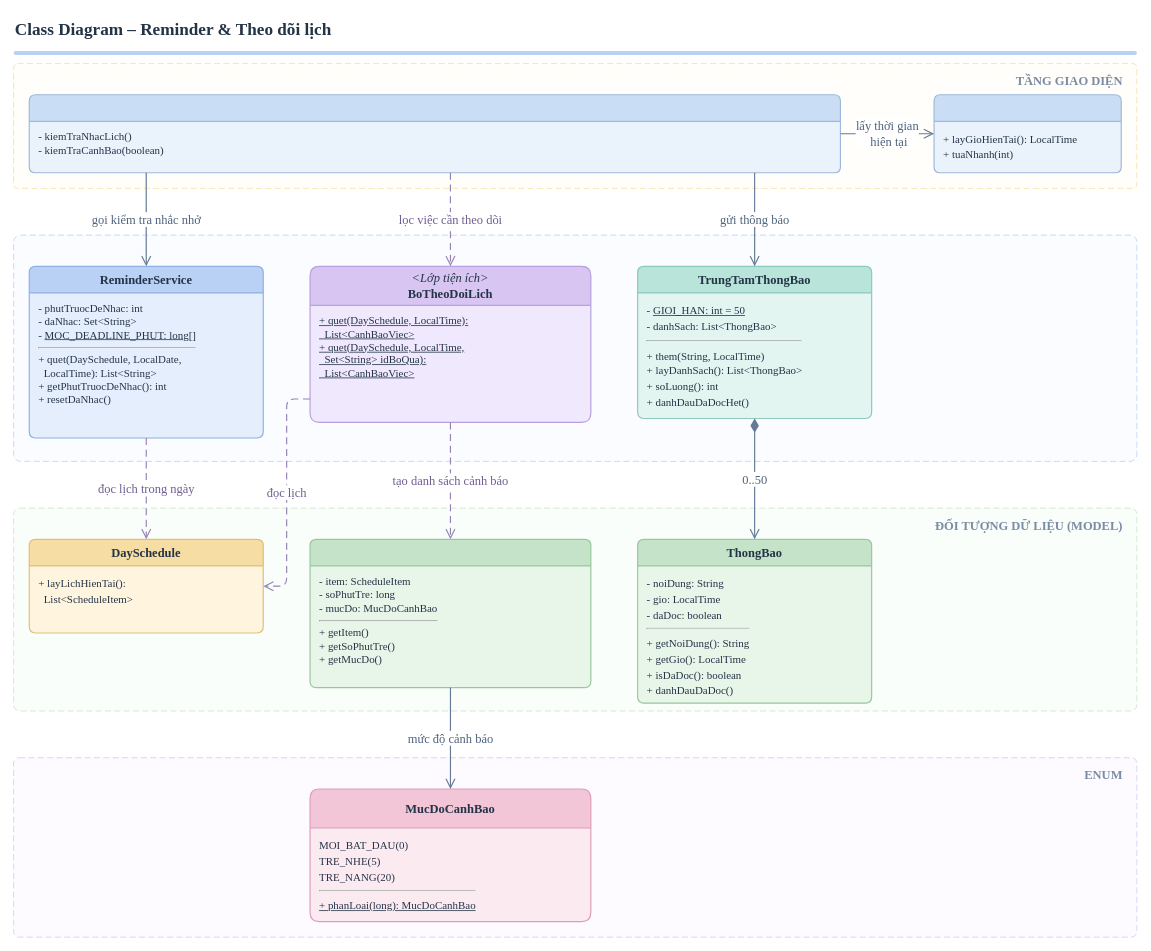
The diagram is 1151 pixels wide and 951 high, and some of its shapes have lost their labels. The shapes that lost their labels are listed below. From the top down, each one's box as (x1, y1, x2, y2) in pixels, then its label:
(28, 94, 841, 173): MainFrame
(933, 94, 1121, 173): DongHo
(13, 234, 1137, 461): TẦNG NGHIỆP VỤ (SERVICE)
(309, 538, 591, 688): CanhBaoViec
